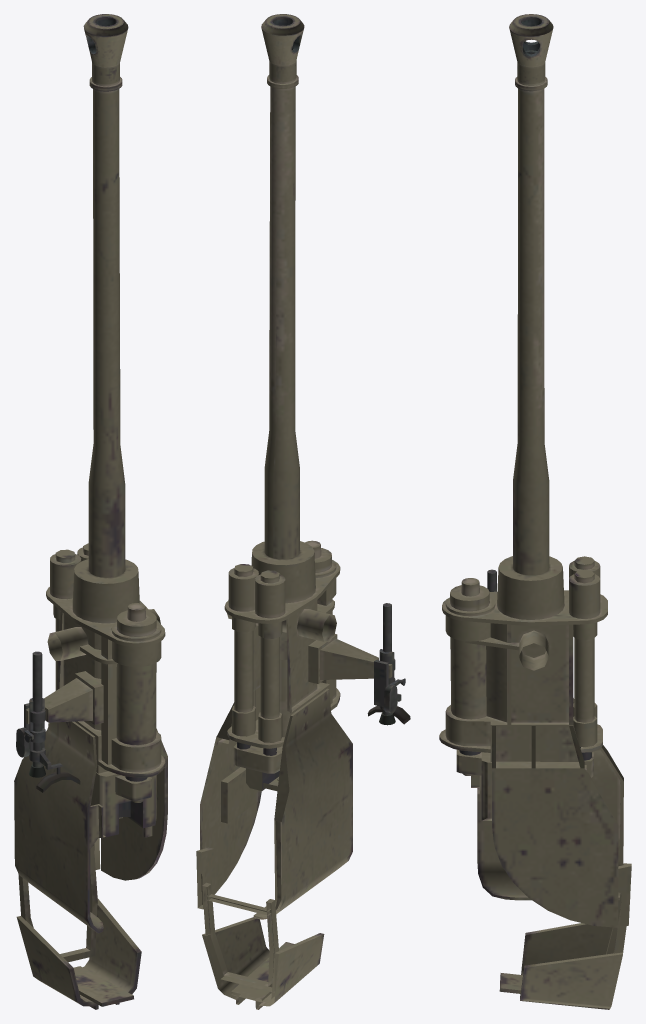
File: Gun_01.glb
3 views of the same model, side by side, from view 1: azimuth 30°, elevation 25°; view 2: azimuth 150°, elevation 25°; view 3: azimuth 270°, elevation 25° (orthographic). The views are drawn at different scales.
Parts seen in each view (by area): view 1: set_0_group_0; view 2: set_0_group_0; view 3: set_0_group_0.
Boxes of the visible parts, x1,y1,x2,y2 form: set_0_group_0: (14,14,167,1009); set_0_group_0: (196,14,410,1009); set_0_group_0: (439,14,631,1009).
Size of the model in its own units: 0.6665 by 4.14 by 0.7343.
Materials: 1 (1 with a texture image).
